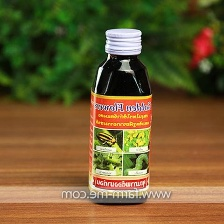insecticide: (81, 24, 157, 208)
